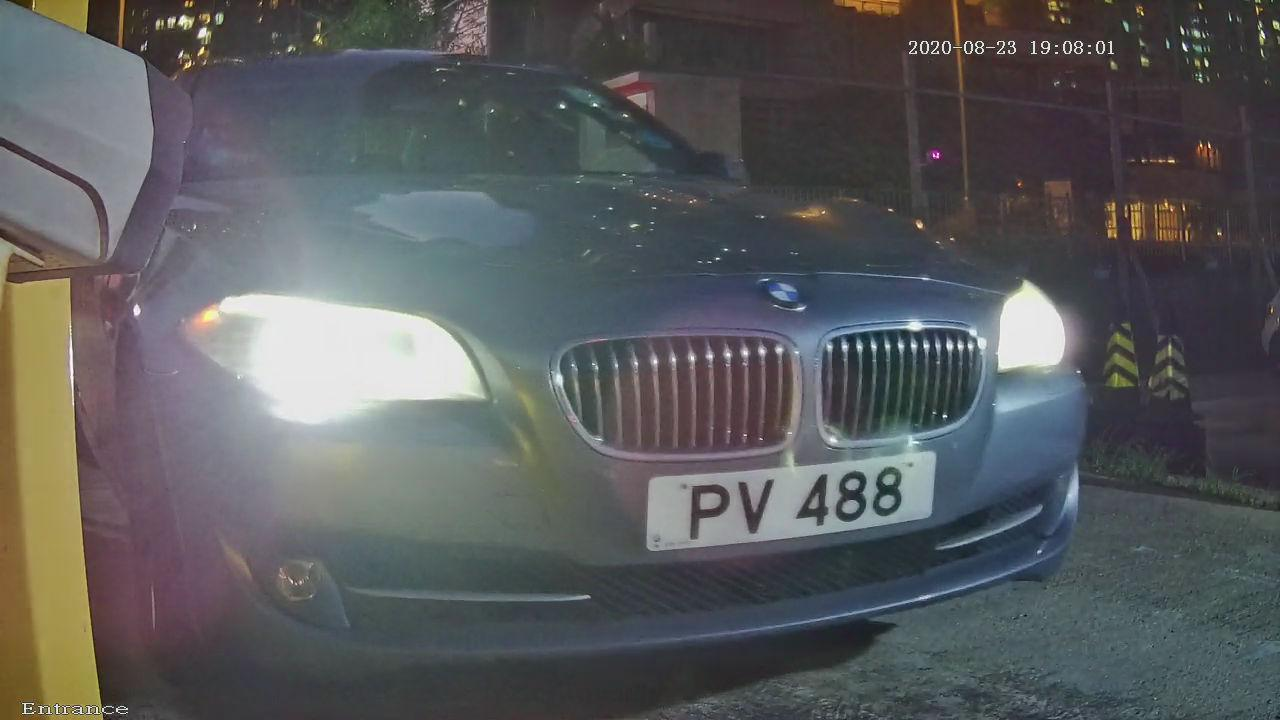License Plate: (581, 405, 983, 597)
